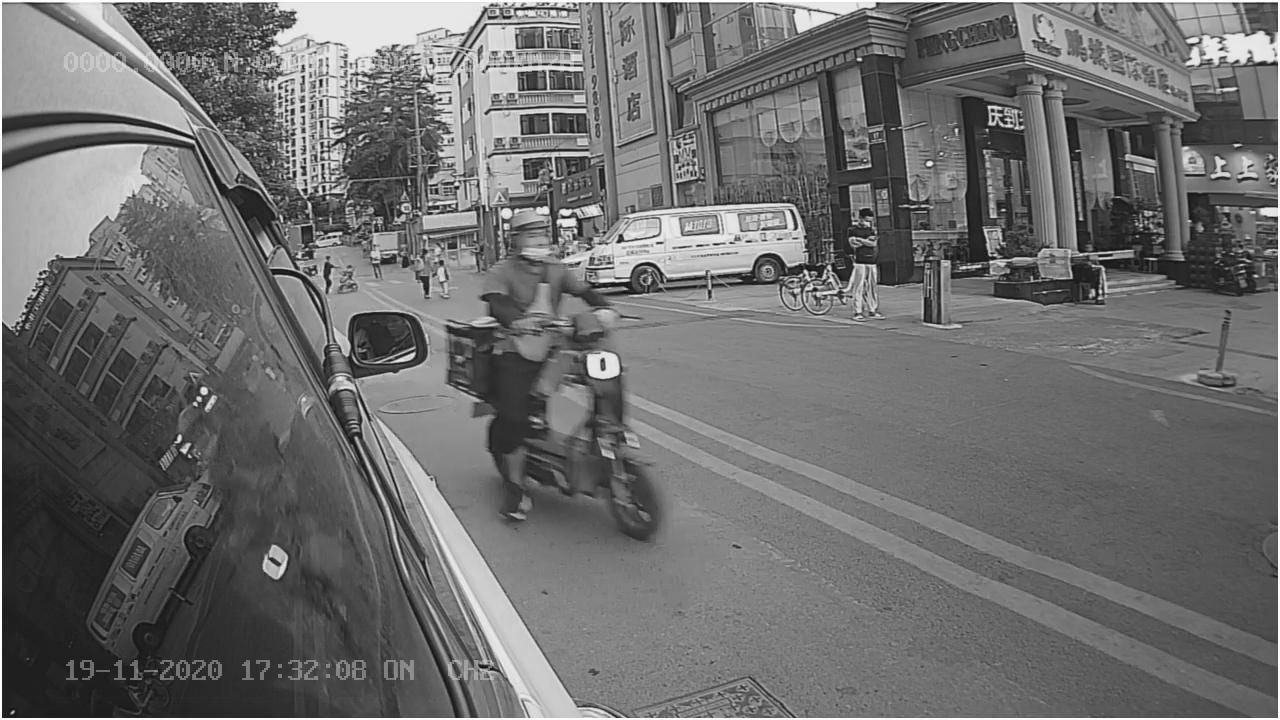person: (476, 202, 597, 324)
